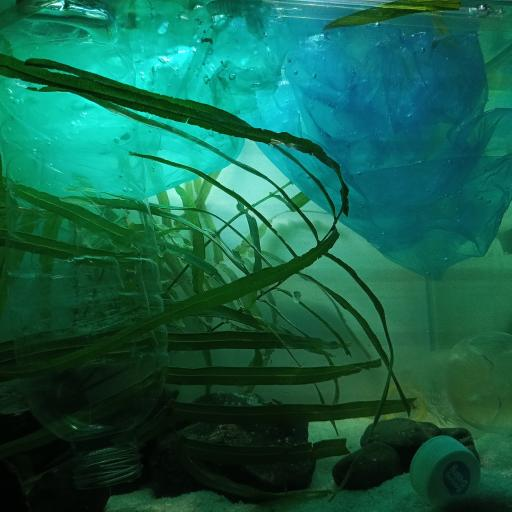bottle_cap: (411, 432, 480, 504)
plastic_bag: (261, 0, 512, 274), (0, 0, 290, 194)
plastic_bottle: (2, 0, 169, 491)
plastic_straw: (275, 0, 512, 32)
